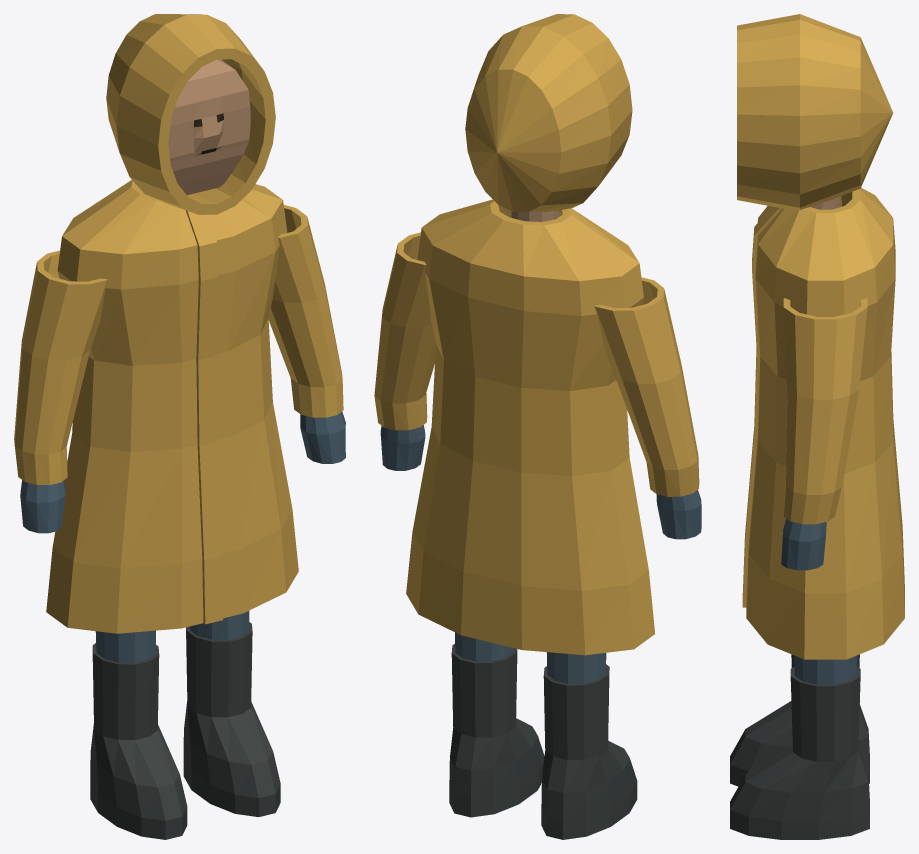
3 views of the same model, side by side, from view 1: azimuth 30°, elevation 25°; view 2: azimuth 150°, elevation 25°; view 3: azimuth 270°, elevation 25° (orthographic).
Visible parts, largest first — view 1: WholeThickOpenHemRaincoat, WholeForwardOpenThickHood, LeftWholeGroundTallBoot, LeftWholeHollowLongSleeve, RightWholeGroundTallBoot, RightWholeHollowLongSleeve, WholeAnonymousShapedHead, WholeFrontClosurePlacket, LeftWholeClosedGlovedHand, RightWholeClosedGlovedHand, LeftWholeTrouserLeg, RightWholeTrouserLeg; view 2: WholeThickOpenHemRaincoat, WholeForwardOpenThickHood, LeftWholeHollowLongSleeve, LeftWholeGroundTallBoot, RightWholeGroundTallBoot, RightWholeHollowLongSleeve, LeftWholeClosedGlovedHand, RightWholeClosedGlovedHand, LeftWholeTrouserLeg, RightWholeTrouserLeg; view 3: WholeThickOpenHemRaincoat, WholeForwardOpenThickHood, RightWholeGroundTallBoot, RightWholeHollowLongSleeve, LeftWholeGroundTallBoot, WholeFrontClosurePlacket, RightWholeClosedGlovedHand, RightWholeTrouserLeg.
Part boxes in pixels (left/top/right/bottom): WholeThickOpenHemRaincoat: left=46, top=180, right=298, bottom=633; WholeForwardOpenThickHood: left=106, top=14, right=275, bottom=214; LeftWholeGroundTallBoot: left=90, top=643, right=187, bottom=839; LeftWholeHollowLongSleeve: left=14, top=250, right=107, bottom=484; RightWholeGroundTallBoot: left=183, top=622, right=280, bottom=817; RightWholeHollowLongSleeve: left=268, top=205, right=343, bottom=417; WholeAnonymousShapedHead: left=168, top=59, right=250, bottom=195; WholeFrontClosurePlacket: left=186, top=210, right=223, bottom=624; LeftWholeClosedGlovedHand: left=20, top=480, right=65, bottom=533; RightWholeClosedGlovedHand: left=300, top=411, right=345, bottom=463; LeftWholeTrouserLeg: left=95, top=630, right=155, bottom=662; RightWholeTrouserLeg: left=189, top=611, right=249, bottom=639; WholeThickOpenHemRaincoat: left=406, top=199, right=654, bottom=655; WholeForwardOpenThickHood: left=465, top=14, right=632, bottom=211; LeftWholeHollowLongSleeve: left=594, top=277, right=699, bottom=496; LeftWholeGroundTallBoot: left=541, top=664, right=637, bottom=839; RightWholeGroundTallBoot: left=449, top=644, right=544, bottom=817; RightWholeHollowLongSleeve: left=374, top=232, right=435, bottom=430; LeftWholeClosedGlovedHand: left=656, top=490, right=701, bottom=539; RightWholeClosedGlovedHand: left=380, top=425, right=425, bottom=470; LeftWholeTrouserLeg: left=546, top=652, right=606, bottom=683; RightWholeTrouserLeg: left=455, top=632, right=513, bottom=661; WholeThickOpenHemRaincoat: left=746, top=187, right=904, bottom=659; WholeForwardOpenThickHood: left=737, top=14, right=893, bottom=210; RightWholeGroundTallBoot: left=730, top=666, right=869, bottom=839; RightWholeHollowLongSleeve: left=783, top=298, right=867, bottom=524; LeftWholeGroundTallBoot: left=730, top=654, right=869, bottom=786; WholeFrontClosurePlacket: left=742, top=206, right=782, bottom=607; RightWholeClosedGlovedHand: left=781, top=519, right=826, bottom=570; RightWholeTrouserLeg: left=794, top=655, right=856, bottom=684.
Bounding box in the file's own units: 0.788 × 1.85 × 0.375.
